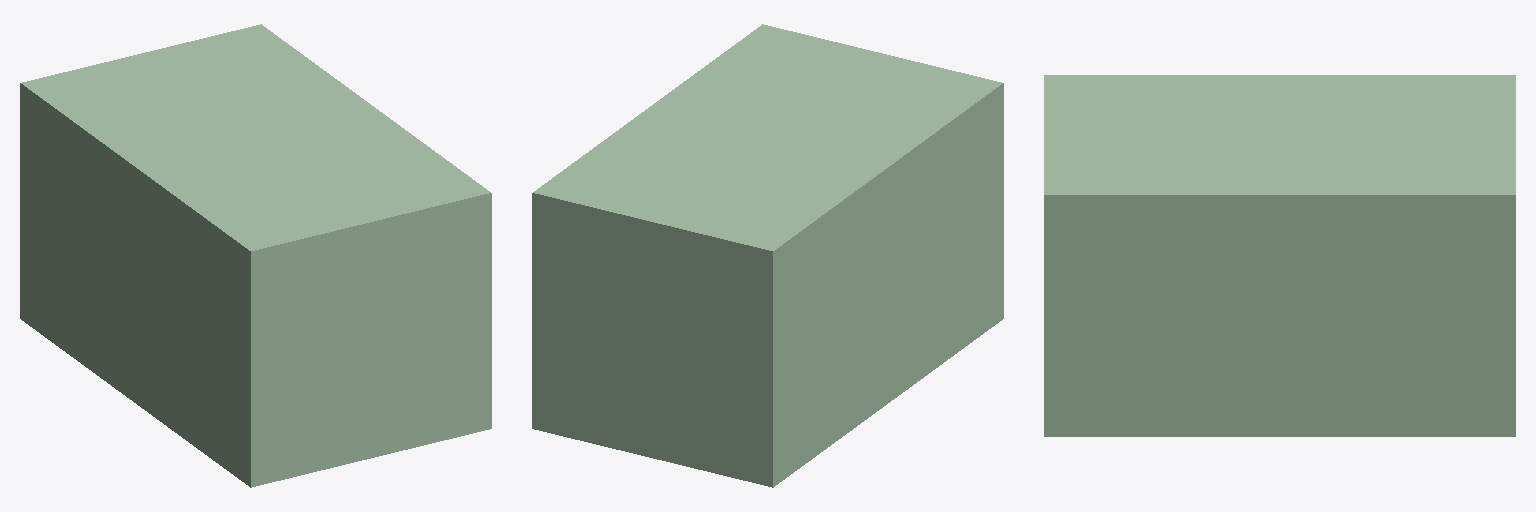
The robot description file, URDF, robot "box.urdf":
<?xml version="1.0" ?>
<robot name="box.urdf">
  <link name="baseLink">
    <contact>
      <lateral_friction value="1.0"/>
      <rolling_friction value="0.0001"/>
      <inertia_scaling value="3.0"/>
    </contact>
    <inertial>
      <origin rpy="0 0 0" xyz="0 0 0"/>
       <mass value="0.1"/>
       <inertia ixx="1" ixy="0" ixz="0" iyy="1" iyz="0" izz="1"/>
    </inertial>
    <visual>
      <origin rpy="0 0 0" xyz="0 0 0"/>
      <geometry>
        <!-- <box size="0.32 0.53 0.3"/> -->
        <mesh filename="box/box.obj" scale="0.32 0.53 0.3"/>
      </geometry>
      <material name="white">
        <color rgba="0.7 0.8 0.7 1"/>
      </material>
    </visual>
    <collision>
      <origin rpy="0 0 0" xyz="0 0 0"/>
      <geometry>
        <mesh filename="box/box.obj" scale="0.32 0.53 0.3"/>
	 	    <!-- <box size="0.32 0.53 0.3"/> -->
      </geometry>
    </collision>
  </link>
</robot>

--- Render facts (derived) ---
The picture shows the robot from 3 angles, left to right: view 1: azimuth 30°, elevation 25°; view 2: azimuth 150°, elevation 25°; view 3: azimuth 270°, elevation 25°; orthographic projection.
Model box.urdf with 1 links and 0 joints (none), rooted at baseLink, posed all joints at 0.
Links seen in each view (by area): view 1: baseLink; view 2: baseLink; view 3: baseLink.
Link boxes in pixels (bbox=[...]): baseLink: bbox=[20, 24, 491, 487]; baseLink: bbox=[532, 24, 1003, 487]; baseLink: bbox=[1044, 75, 1515, 436].
Bounding box of the posed robot: 0.32 × 0.53 × 0.3 m (x, y, z).
1 mesh visuals loaded from 1 distinct referenced files (1 OBJ).
